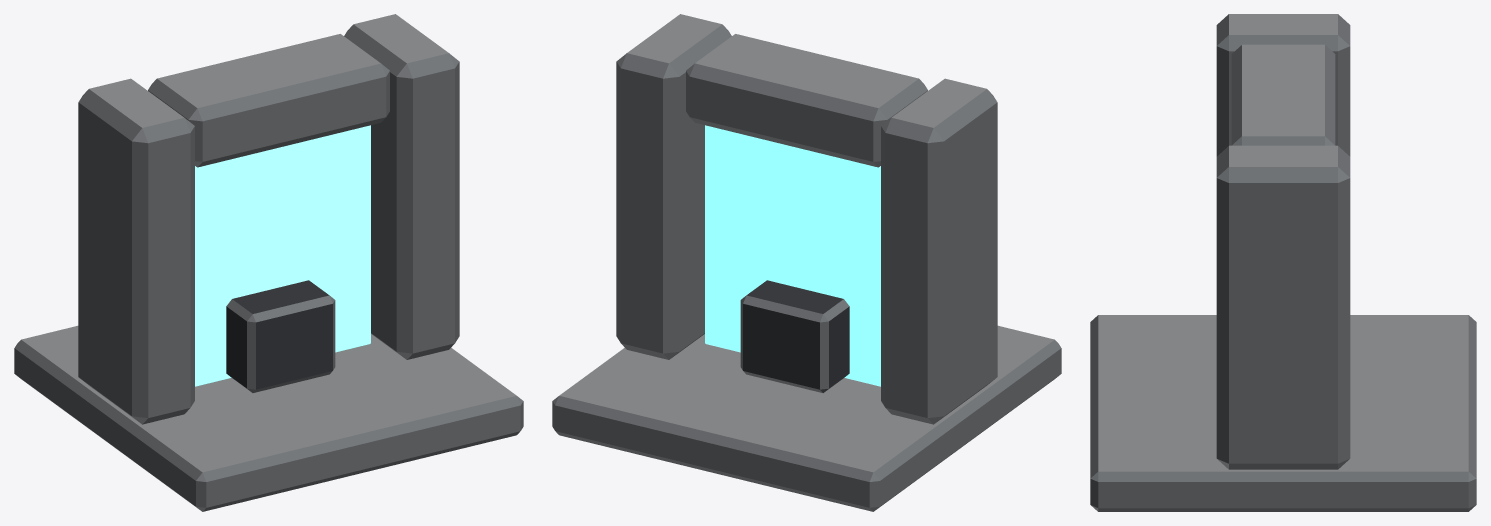
Rendered from R4X_StructuralScanner_LOD1.glb.
3 renders of one model, left to right at view 1: azimuth 30°, elevation 25°; view 2: azimuth 150°, elevation 25°; view 3: azimuth 270°, elevation 25°, orthographic. The views are drawn at different scales.
Visible parts, largest first — view 1: R4X_StructuralScanner_LOD1; view 2: R4X_StructuralScanner_LOD1; view 3: R4X_StructuralScanner_LOD1.
Part boxes in pixels (x1,y1,x2,y2): R4X_StructuralScanner_LOD1: [14, 14, 523, 511]; R4X_StructuralScanner_LOD1: [552, 14, 1061, 511]; R4X_StructuralScanner_LOD1: [1090, 14, 1476, 511].
Size of the model in its own units: 0.52 by 0.51 by 0.52.
